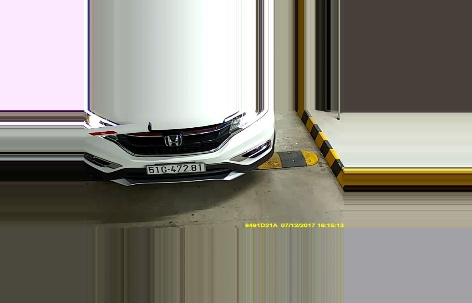plate: (148, 160, 208, 174)
